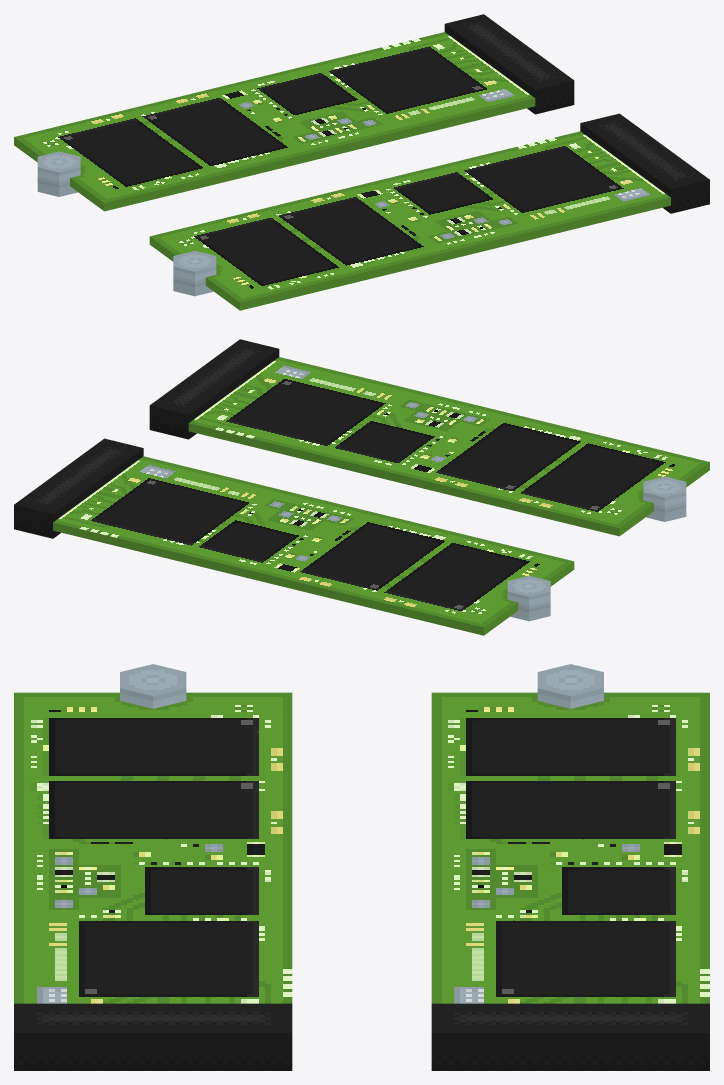
File: ssd.447a4b88.glb
3 renders of one model, top to bottom at view 1: azimuth 30°, elevation 25°; view 2: azimuth 150°, elevation 25°; view 3: azimuth 270°, elevation 25°, orthographic. The views are drawn at different scales.
Parts seen in each view (by area): view 1: Cube, Cube.001; view 2: Cube.001, Cube; view 3: Cube, Cube.001.
Part boxes in pixels (box(x1,y1,x2,y2)): Cube: box(14, 14, 574, 211); Cube.001: box(149, 113, 709, 310); Cube.001: box(149, 339, 709, 536); Cube: box(14, 438, 574, 635); Cube: box(431, 664, 709, 1070); Cube.001: box(14, 664, 292, 1070).
Size of the model in its own units: 6.27 by 0.3 by 5.
Materials: 2 (2 with a texture image).
